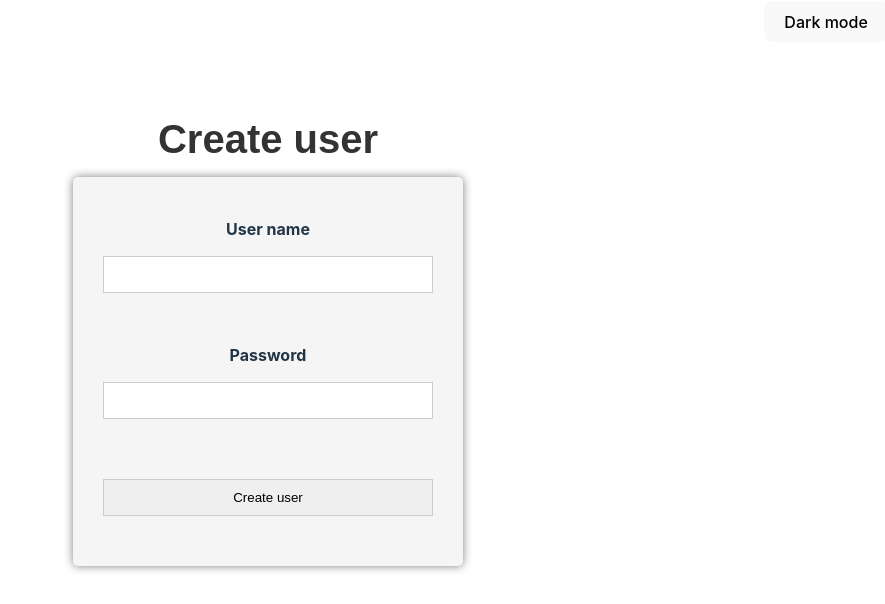
Test: App › should render error message when form was submit with weak password
Expected: the text "Password must be at least 8 characters long" is not shown
Type "John" into the field labelled "User name" at (268, 274), box [103,256,433,292]
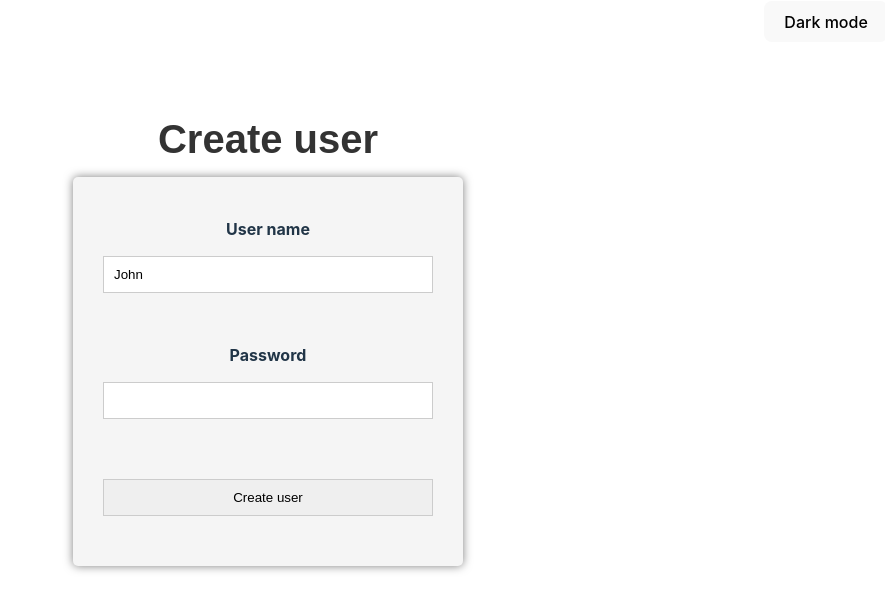
Type "123" into the password field labelled "Password" at (268, 400), box [103,382,433,418]
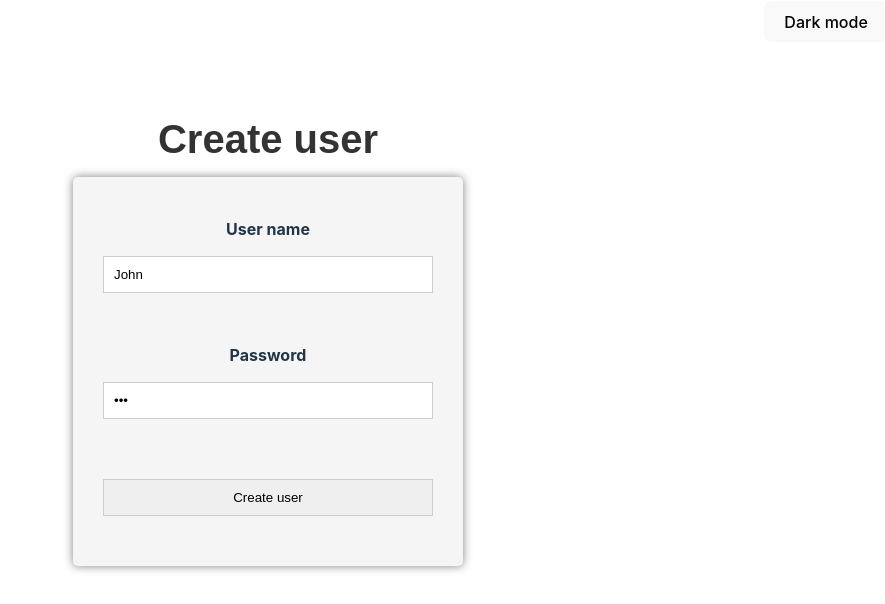
Click the button "Create user" at (268, 497), box [103,478,433,516]
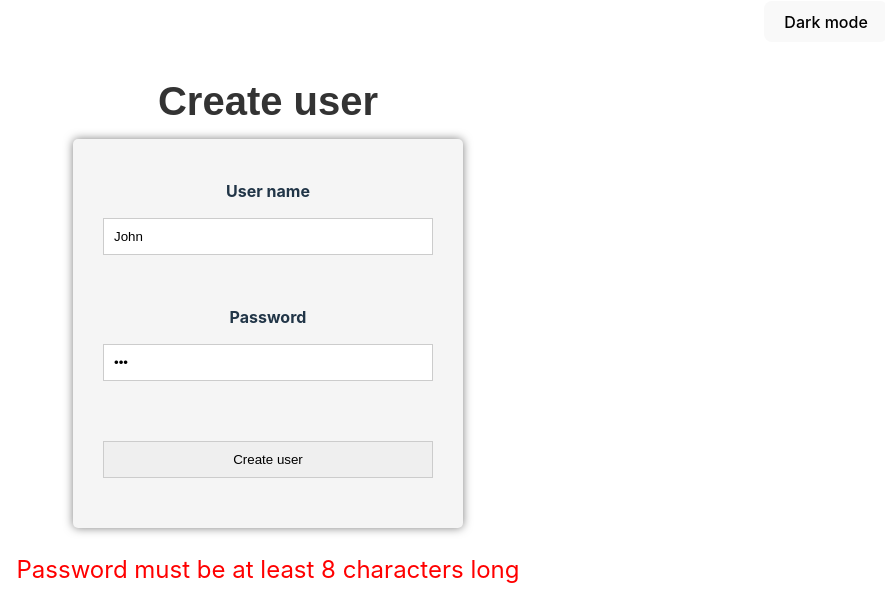
Expected: the text "Password must be at least 8 characters long" is shown, [16,552,520,588]
